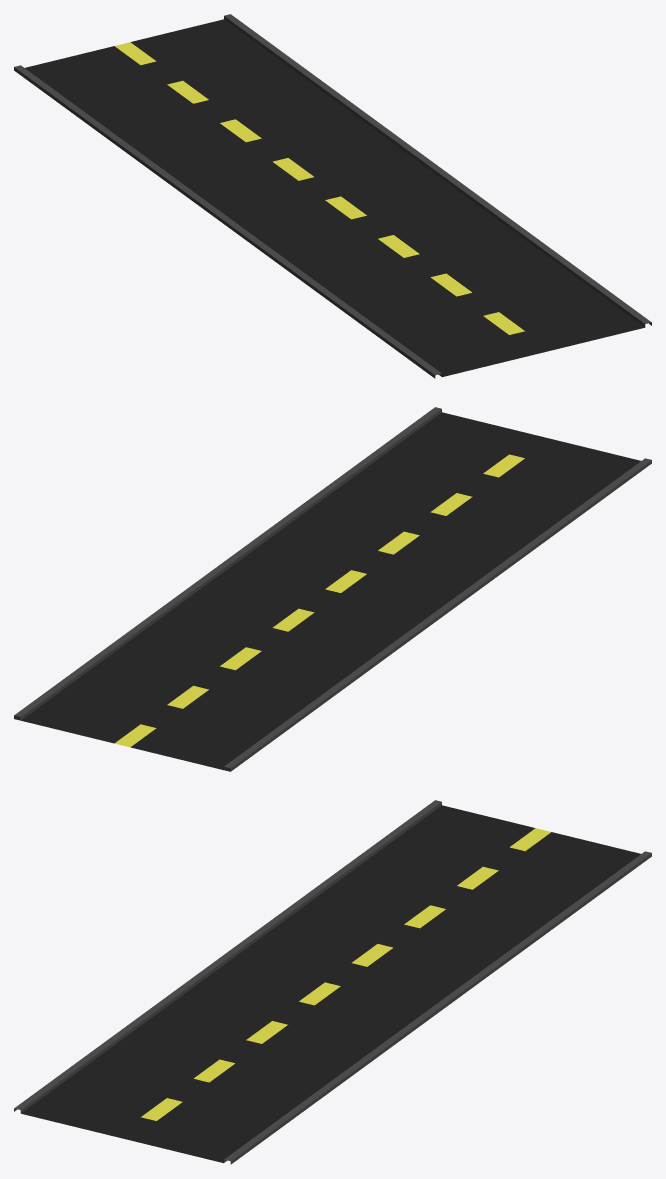
The model's file is weg.FBX.
3 renders of one model, top to bottom at view 1: azimuth 30°, elevation 25°; view 2: azimuth 150°, elevation 25°; view 3: azimuth 330°, elevation 25°, orthographic.
Parts seen in each view (by area): view 1: weg; view 2: weg; view 3: weg.
Part boxes in pixels (bbox=[...]): weg: bbox=[14, 14, 651, 378]; weg: bbox=[14, 407, 651, 771]; weg: bbox=[14, 800, 651, 1164].
Bounding box in the file's own units: 58.29 × 0.9163 × 196.
